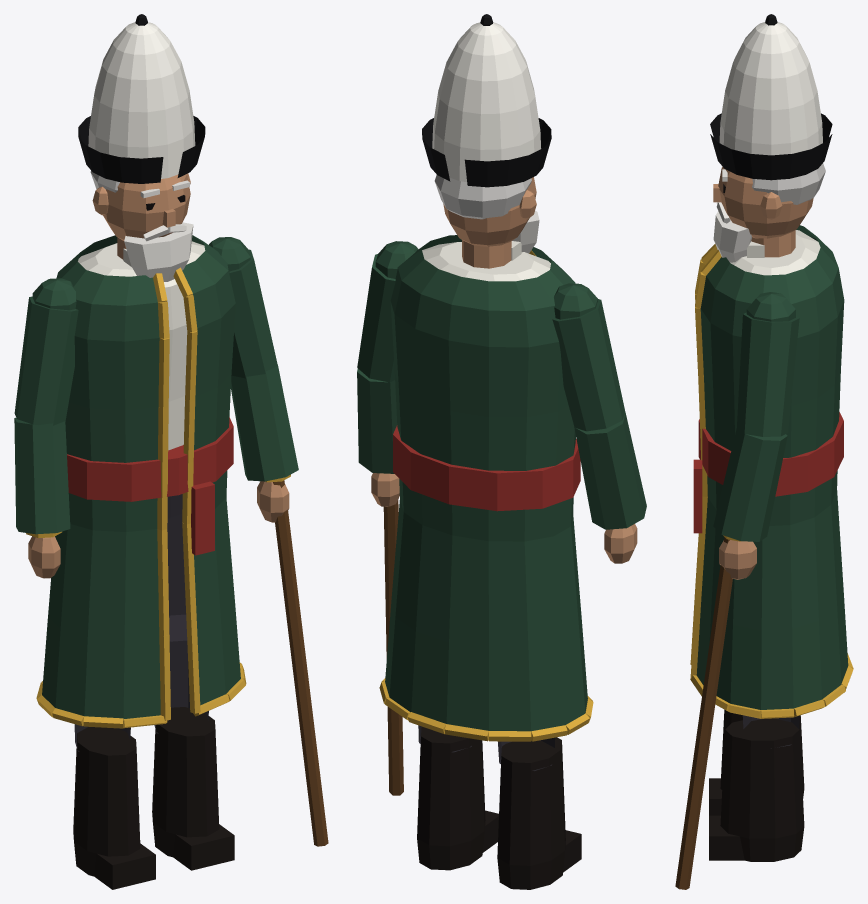
Rendered from Aksakal.obj.
3 views of the same model, side by side, from view 1: azimuth 30°, elevation 25°; view 2: azimuth 150°, elevation 25°; view 3: azimuth 270°, elevation 25° (orthographic). The views are drawn at different scales.
Parts seen in each view (by area): view 1: Aksakal; view 2: Aksakal; view 3: Aksakal.
Part boxes in pixels (box(x1,y1,x2,y2)): Aksakal: box(14, 14, 328, 889); Aksakal: box(357, 14, 646, 889); Aksakal: box(675, 14, 853, 889).
Size of the model in its own units: 0.7056 by 2.03 by 0.4011.
